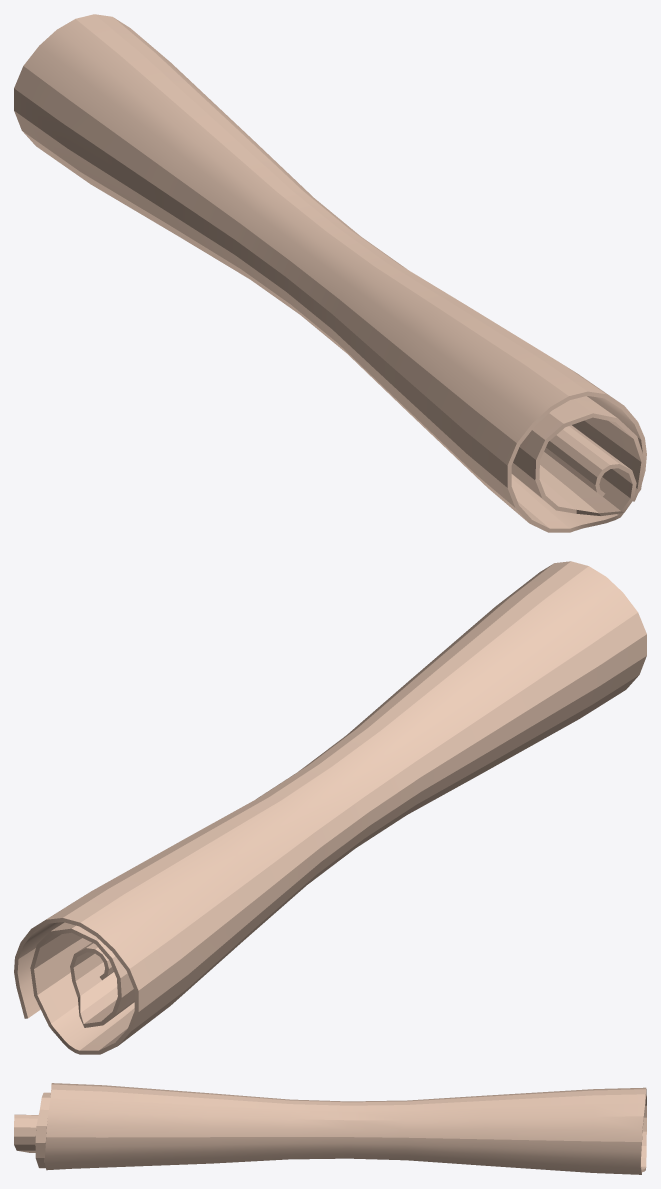
Rendered from Scroll1.fbx.
The picture shows the model from 3 angles, top to bottom: view 1: azimuth 30°, elevation 25°; view 2: azimuth 150°, elevation 25°; view 3: azimuth 270°, elevation 25°; orthographic projection. The views are drawn at different scales.
Parts seen in each view (by area): view 1: IndividualScroll3; view 2: IndividualScroll3; view 3: IndividualScroll3.
Boxes of the visible parts, x1,y1,x2,y2 form: IndividualScroll3: (14, 14, 646, 532); IndividualScroll3: (14, 561, 646, 1054); IndividualScroll3: (14, 1083, 646, 1174).
Size of the model in its own units: 8.22 by 7.17 by 51.47.
